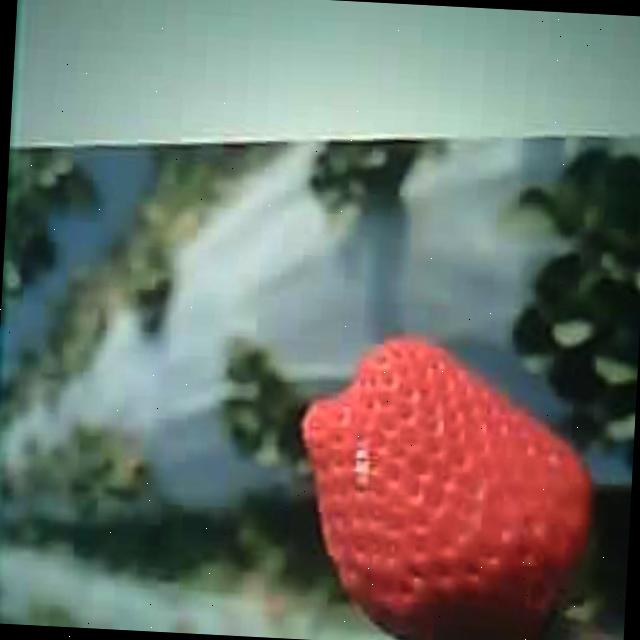strawberry: (287, 337, 600, 640)
